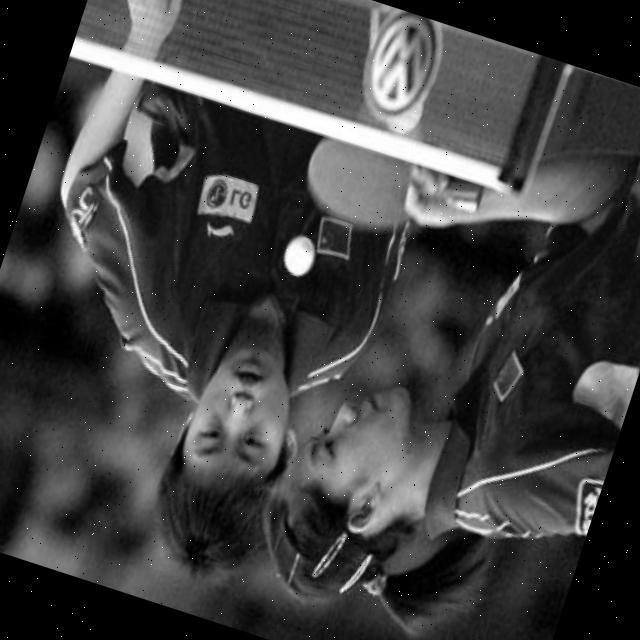ping-pong-ball: (276, 231, 321, 282)
